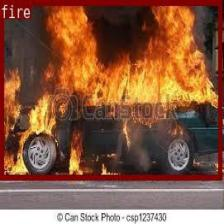fire: (0, 0, 222, 180)
